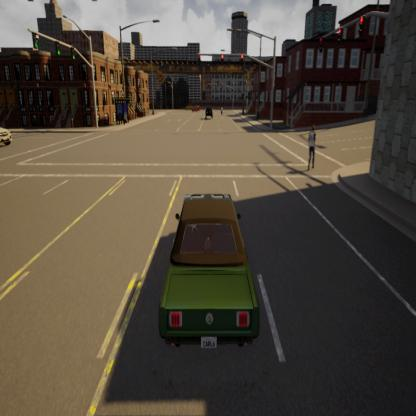Cars: (154, 174, 269, 362), (0, 122, 20, 156), (204, 103, 213, 124)
Pedestrian: (302, 113, 327, 177)
